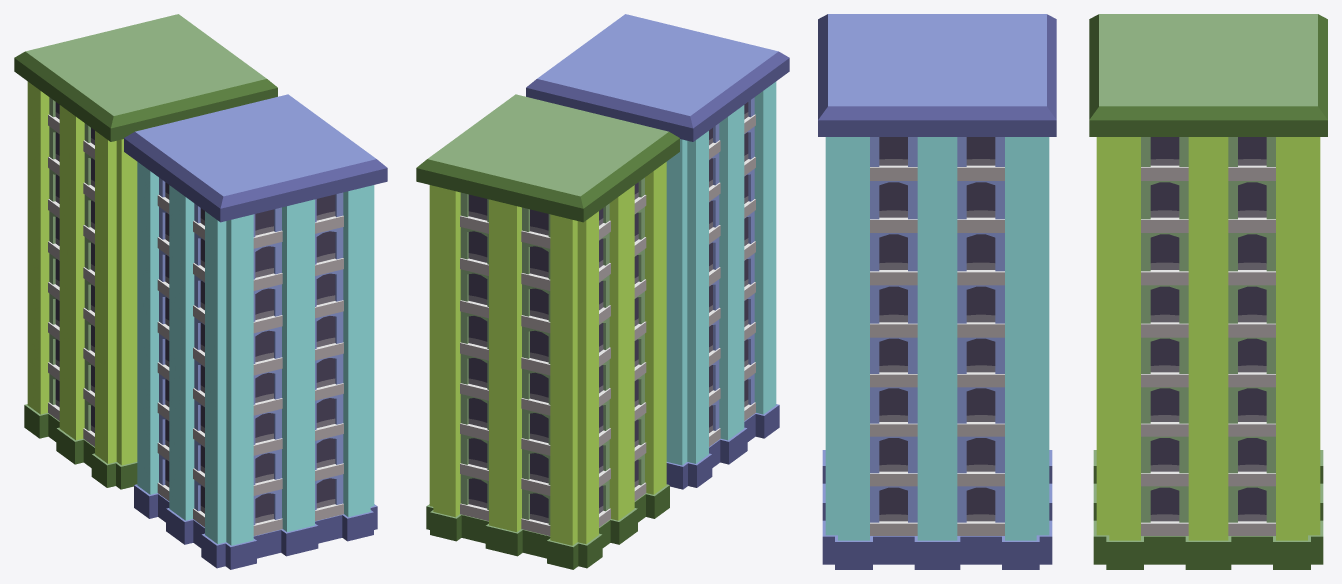
The model's file is building 4 - green and blue.fbx.
The picture shows the model from 3 angles, left to right: view 1: azimuth 30°, elevation 25°; view 2: azimuth 150°, elevation 25°; view 3: azimuth 270°, elevation 25°; orthographic projection. The views are drawn at different scales.
Visible parts, largest first — view 1: pCube3, pCube1, pCube4, pCube2; view 2: pCube1, pCube3, pCube2, pCube4; view 3: pCube1, pCube3, pCube2, pCube4.
Part boxes in pixels (bbox=[...]): pCube3: bbox=[134, 162, 377, 569]; pCube1: bbox=[24, 81, 137, 489]; pCube4: bbox=[124, 94, 387, 222]; pCube2: bbox=[14, 14, 277, 141]; pCube1: bbox=[426, 162, 669, 569]; pCube3: bbox=[666, 81, 779, 489]; pCube2: bbox=[416, 94, 679, 222]; pCube4: bbox=[526, 14, 789, 141]; pCube1: bbox=[1093, 137, 1323, 569]; pCube3: bbox=[822, 137, 1052, 569]; pCube2: bbox=[1089, 14, 1327, 136]; pCube4: bbox=[818, 14, 1056, 136].
Size of the model in its own units: 7.05 by 15.03 by 15.06.
